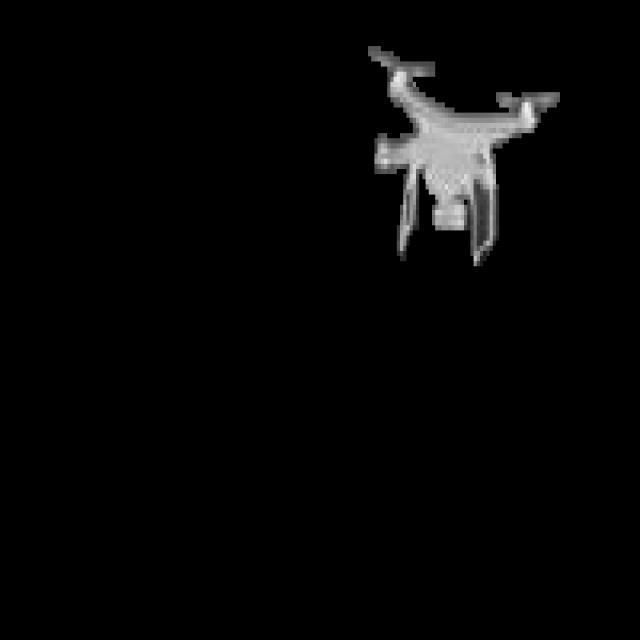drone: (354, 36, 567, 278)
